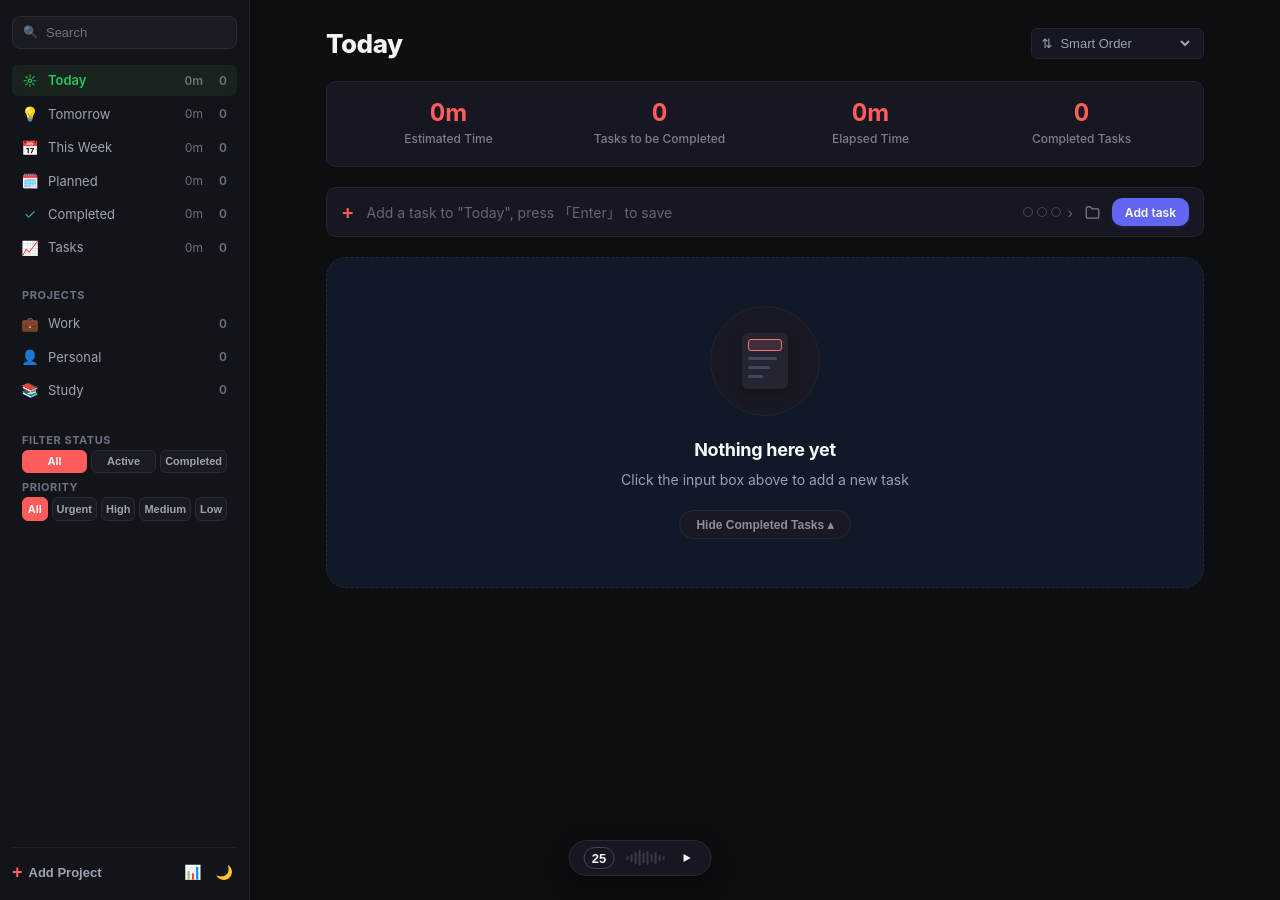
App component integration › shows delete completed button only when there are completed tasks
Check: the text "delete completed" is not shown
Type "Finish me" into the field named "title". click: (689, 212)
box: [366, 204, 1012, 221]
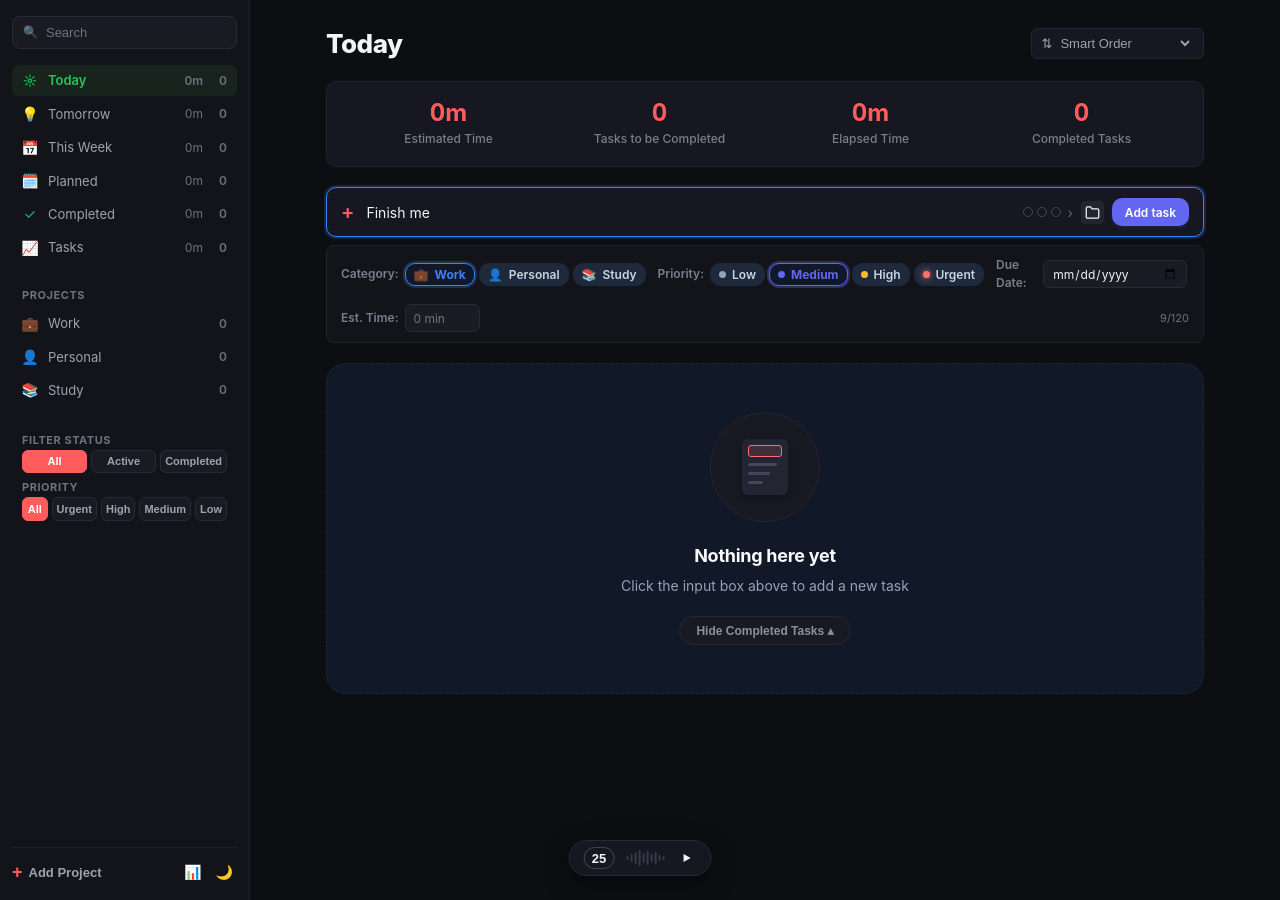
Click the button "Add task". click: (1150, 212)
box: [1112, 198, 1189, 226]
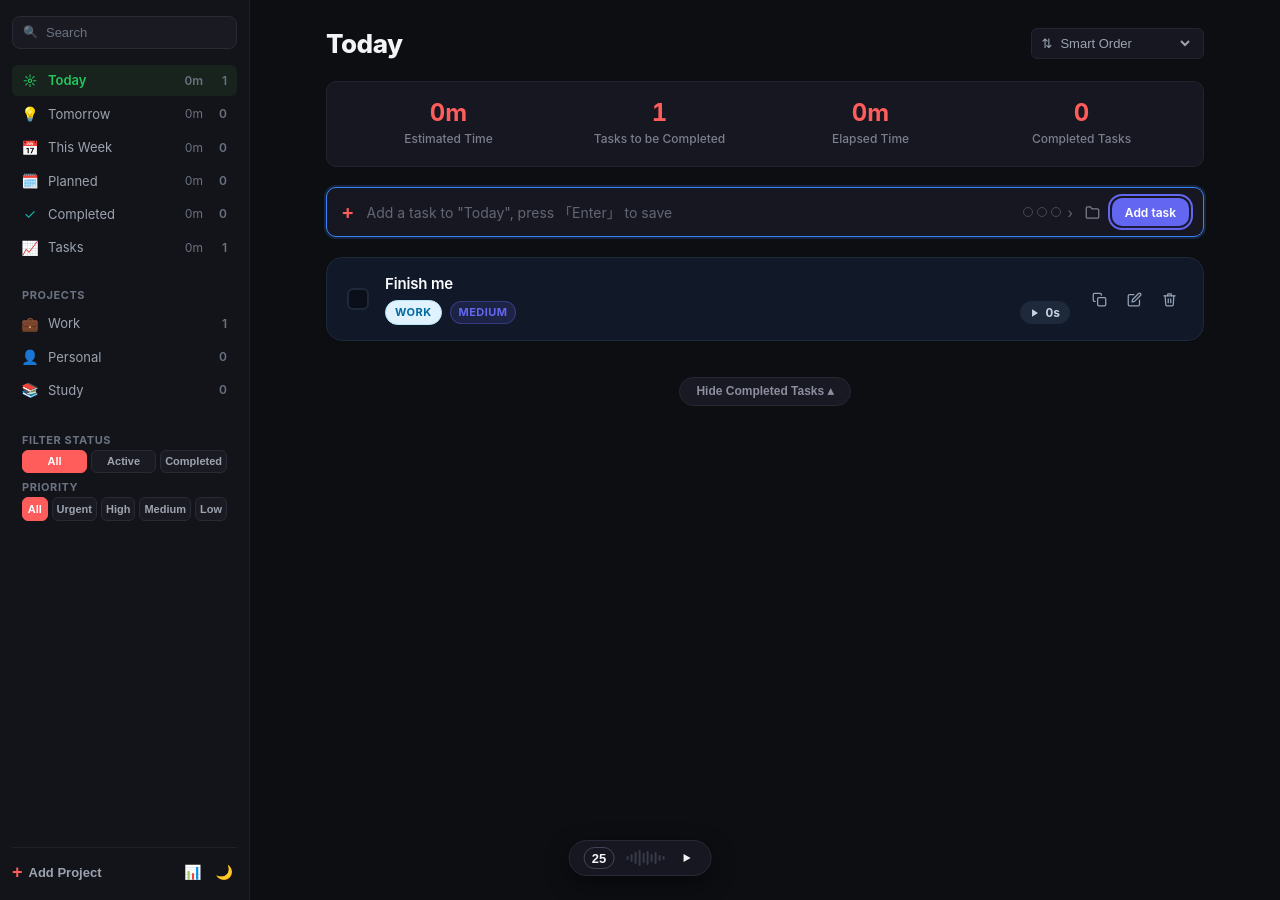
Click the checkbox named "mark \"finish me\" as complete". click: (358, 299)
box: [347, 288, 369, 310]
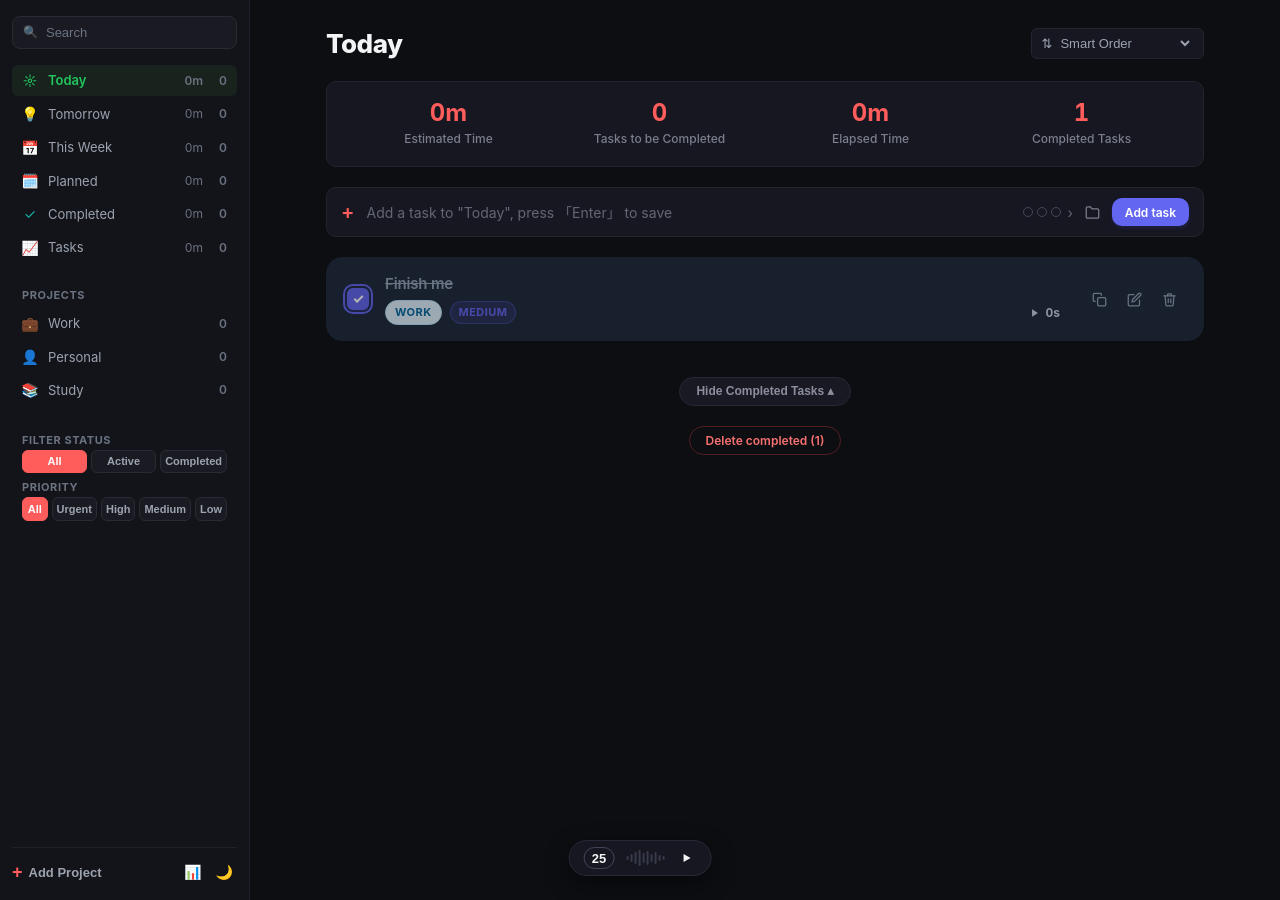
Check: the button "Delete completed (1)" is shown, box [689, 426, 841, 455]
